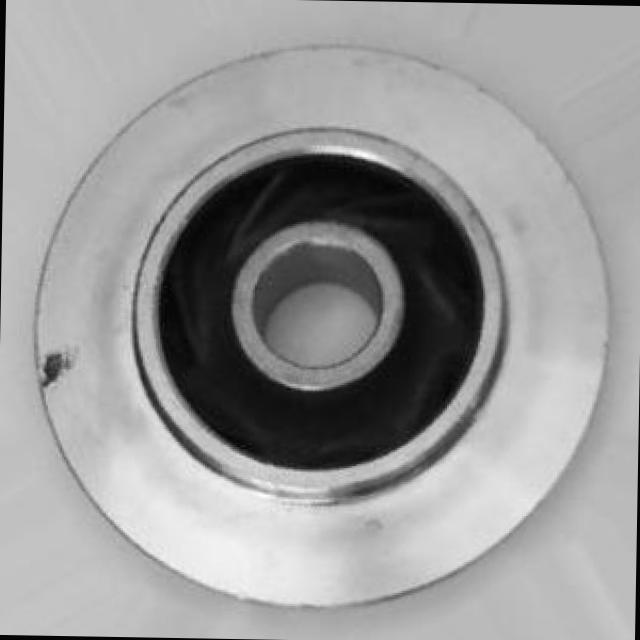Defect: (34, 336, 84, 394)
